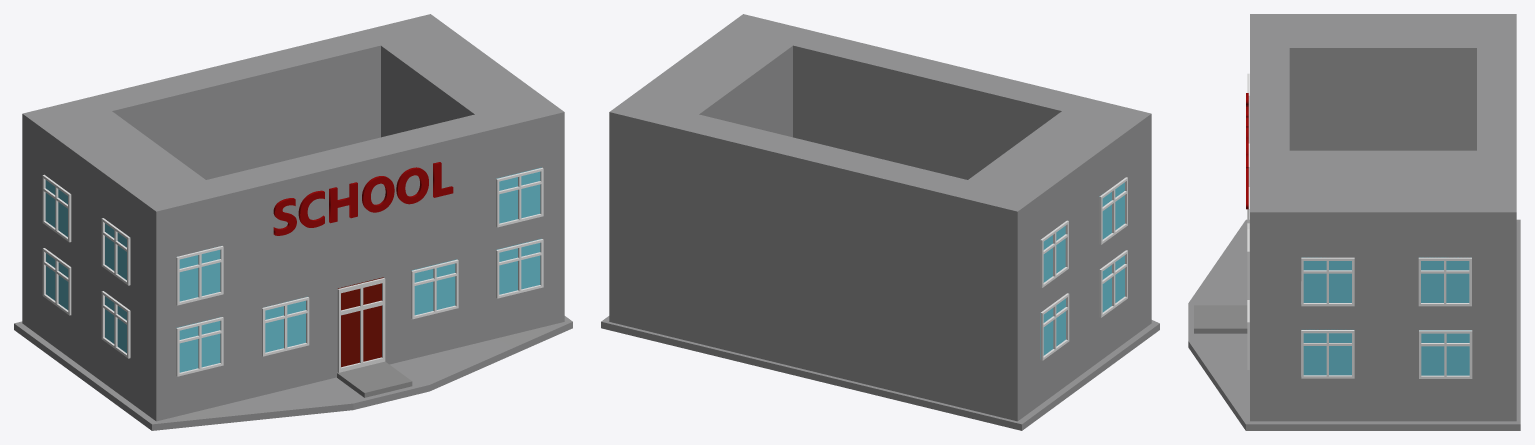
Rendered from School Assets.fbx.
3 views of the same model, side by side, from view 1: azimuth 30°, elevation 25°; view 2: azimuth 150°, elevation 25°; view 3: azimuth 270°, elevation 25° (orthographic).
Parts seen in each view (by area): view 1: Cube.023, Text.002, Plane.029, Cube.031, Cube.030, Plane.038, Plane.024, Plane.040, Plane.039, Plane.025, Plane.023, Cube.041 (+13 smaller); view 2: Cube.023, Cube.028, Plane.027, Cube.032, Cube.027, Cube.029, Plane.028, Plane.026, Plane.030; view 3: Cube.023, Plane.034, Plane.032, Plane.033, Plane.031, Cube.031, Cube.036, Cube.033, Cube.035, Cube.034, Text.002.
Boxes of the visible parts, box(x1,y1,x2,y2) form: Cube.023: box(14, 14, 572, 430); Text.002: box(273, 162, 453, 235); Plane.029: box(338, 277, 383, 367); Cube.031: box(337, 361, 412, 397); Cube.030: box(337, 278, 385, 372); Plane.038: box(411, 259, 456, 315); Plane.024: box(176, 317, 220, 372); Plane.040: box(496, 167, 541, 223); Plane.039: box(496, 238, 541, 294); Plane.025: box(179, 247, 220, 301); Plane.023: box(265, 296, 307, 352); Cube.041: box(496, 239, 543, 298); Cube.023: box(601, 14, 1159, 430); Cube.028: box(1040, 293, 1069, 360); Plane.027: box(1040, 298, 1065, 359); Cube.032: box(1040, 220, 1068, 287); Cube.027: box(1099, 250, 1127, 317); Cube.029: box(1099, 177, 1127, 244); Plane.028: box(1099, 182, 1124, 239); Plane.026: box(1102, 255, 1124, 312); Plane.030: box(1043, 226, 1065, 282); Cube.023: box(1188, 14, 1520, 430); Plane.034: box(1419, 330, 1471, 375); Plane.032: box(1302, 329, 1352, 375); Plane.033: box(1419, 257, 1470, 302); Plane.031: box(1302, 257, 1351, 302); Cube.031: box(1194, 305, 1247, 333); Cube.036: box(1419, 330, 1472, 378); Cube.033: box(1301, 257, 1354, 306); Cube.035: box(1418, 257, 1471, 306); Cube.034: box(1301, 330, 1354, 378); Text.002: box(1246, 93, 1248, 209).
Size of the model in its own units: 69719 by 34230 by 47899.
